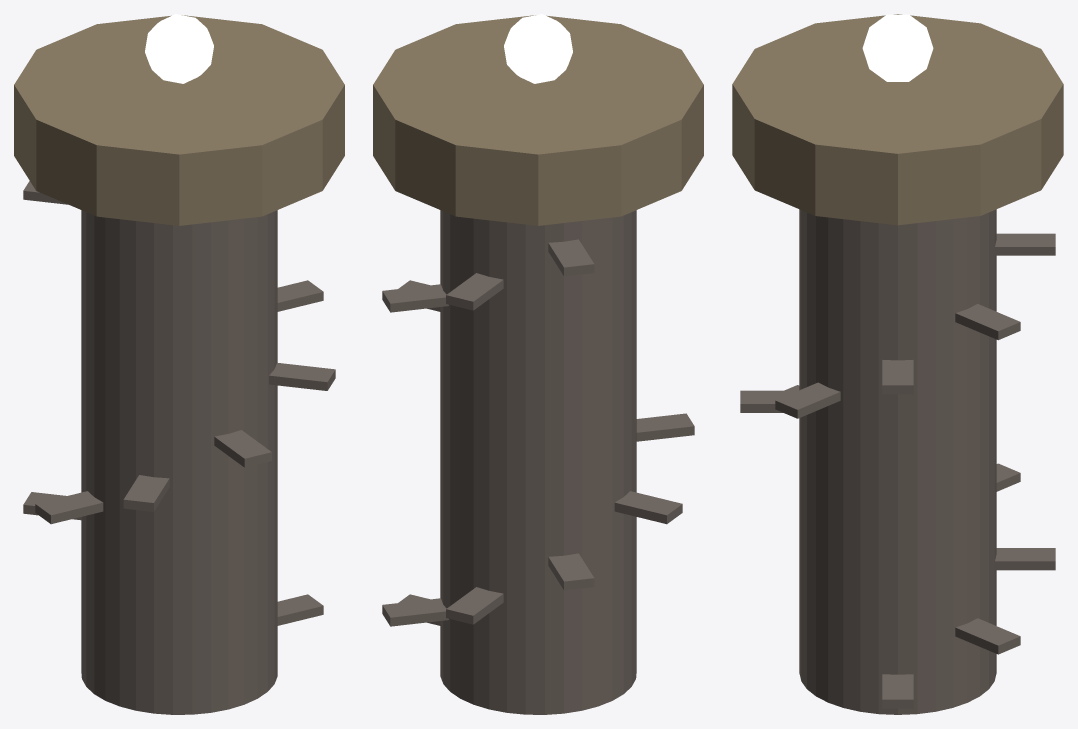
The model's file is structure_mist_nest_spire.glb.
3 renders of one model, left to right at view 1: azimuth 30°, elevation 25°; view 2: azimuth 150°, elevation 25°; view 3: azimuth 270°, elevation 25°, orthographic.
Visible parts, largest first — view 1: Bramble_Spire_Core, Upper_Wicker_Nest, Mist_Watcher_Orb, Spiral_Step_5, Spiral_Step_8, Spiral_Step_7, Spiral_Step_6, Spiral_Step_9, Spiral_Step_1; view 2: Bramble_Spire_Core, Upper_Wicker_Nest, Mist_Watcher_Orb, Spiral_Step_5, Spiral_Step_2, Spiral_Step_10, Spiral_Step_3, Spiral_Step_11, Spiral_Step_6, Spiral_Step_12, Spiral_Step_4; view 3: Bramble_Spire_Core, Upper_Wicker_Nest, Mist_Watcher_Orb, Spiral_Step_2, Spiral_Step_8, Spiral_Step_10, Spiral_Step_3, Spiral_Step_11, Spiral_Step_1, Spiral_Step_9, Spiral_Step_7.
Boxes of the visible parts, <box> form: Bramble_Spire_Core: <box>81,210,277,714</box>; Upper_Wicker_Nest: <box>14,15,344,225</box>; Mist_Watcher_Orb: <box>145,14,213,83</box>; Spiral_Step_5: <box>35,491,103,524</box>; Spiral_Step_8: <box>269,362,335,390</box>; Spiral_Step_7: <box>214,430,271,467</box>; Spiral_Step_6: <box>123,475,169,511</box>; Spiral_Step_9: <box>277,280,323,311</box>; Spiral_Step_1: <box>277,594,323,625</box>; Bramble_Spire_Core: <box>440,210,636,714</box>; Upper_Wicker_Nest: <box>373,15,703,225</box>; Mist_Watcher_Orb: <box>504,14,572,83</box>; Spiral_Step_5: <box>614,491,682,524</box>; Spiral_Step_2: <box>382,598,448,626</box>; Spiral_Step_10: <box>382,284,448,312</box>; Spiral_Step_3: <box>446,587,503,624</box>; Spiral_Step_11: <box>446,273,503,310</box>; Spiral_Step_6: <box>636,413,694,441</box>; Spiral_Step_12: <box>548,239,594,276</box>; Spiral_Step_4: <box>548,553,594,590</box>; Bramble_Spire_Core: <box>799,209,996,714</box>; Upper_Wicker_Nest: <box>732,14,1063,225</box>; Mist_Watcher_Orb: <box>862,14,933,81</box>; Spiral_Step_2: <box>955,618,1020,654</box>; Spiral_Step_8: <box>775,382,840,418</box>; Spiral_Step_10: <box>955,304,1020,340</box>; Spiral_Step_3: <box>995,548,1055,570</box>; Spiral_Step_11: <box>995,233,1055,255</box>; Spiral_Step_1: <box>882,674,913,708</box>; Spiral_Step_9: <box>882,360,913,394</box>; Spiral_Step_7: <box>740,390,797,412</box>.
Size of the model in its own units: 8.4 by 18.4 by 8.4.
